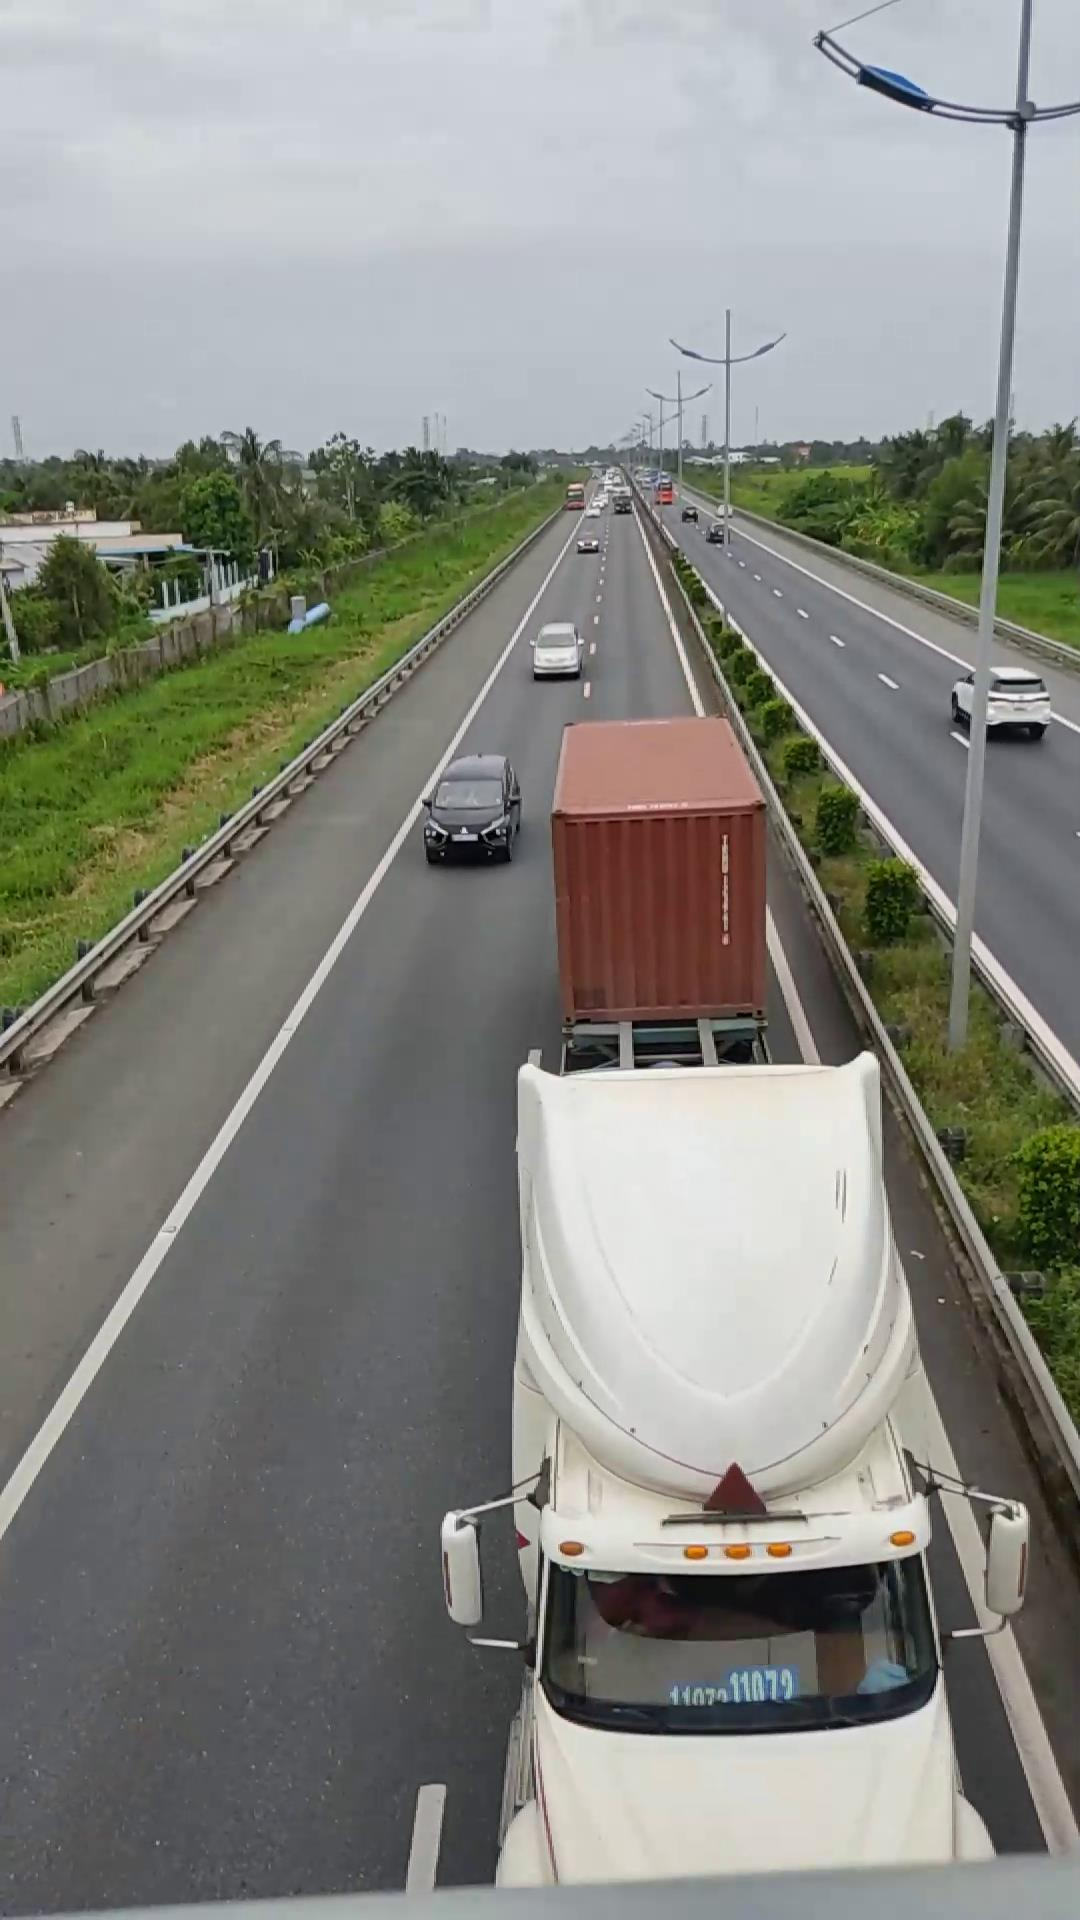car: (419, 752, 524, 862), (949, 659, 1048, 736)
container: (479, 708, 973, 1888)
